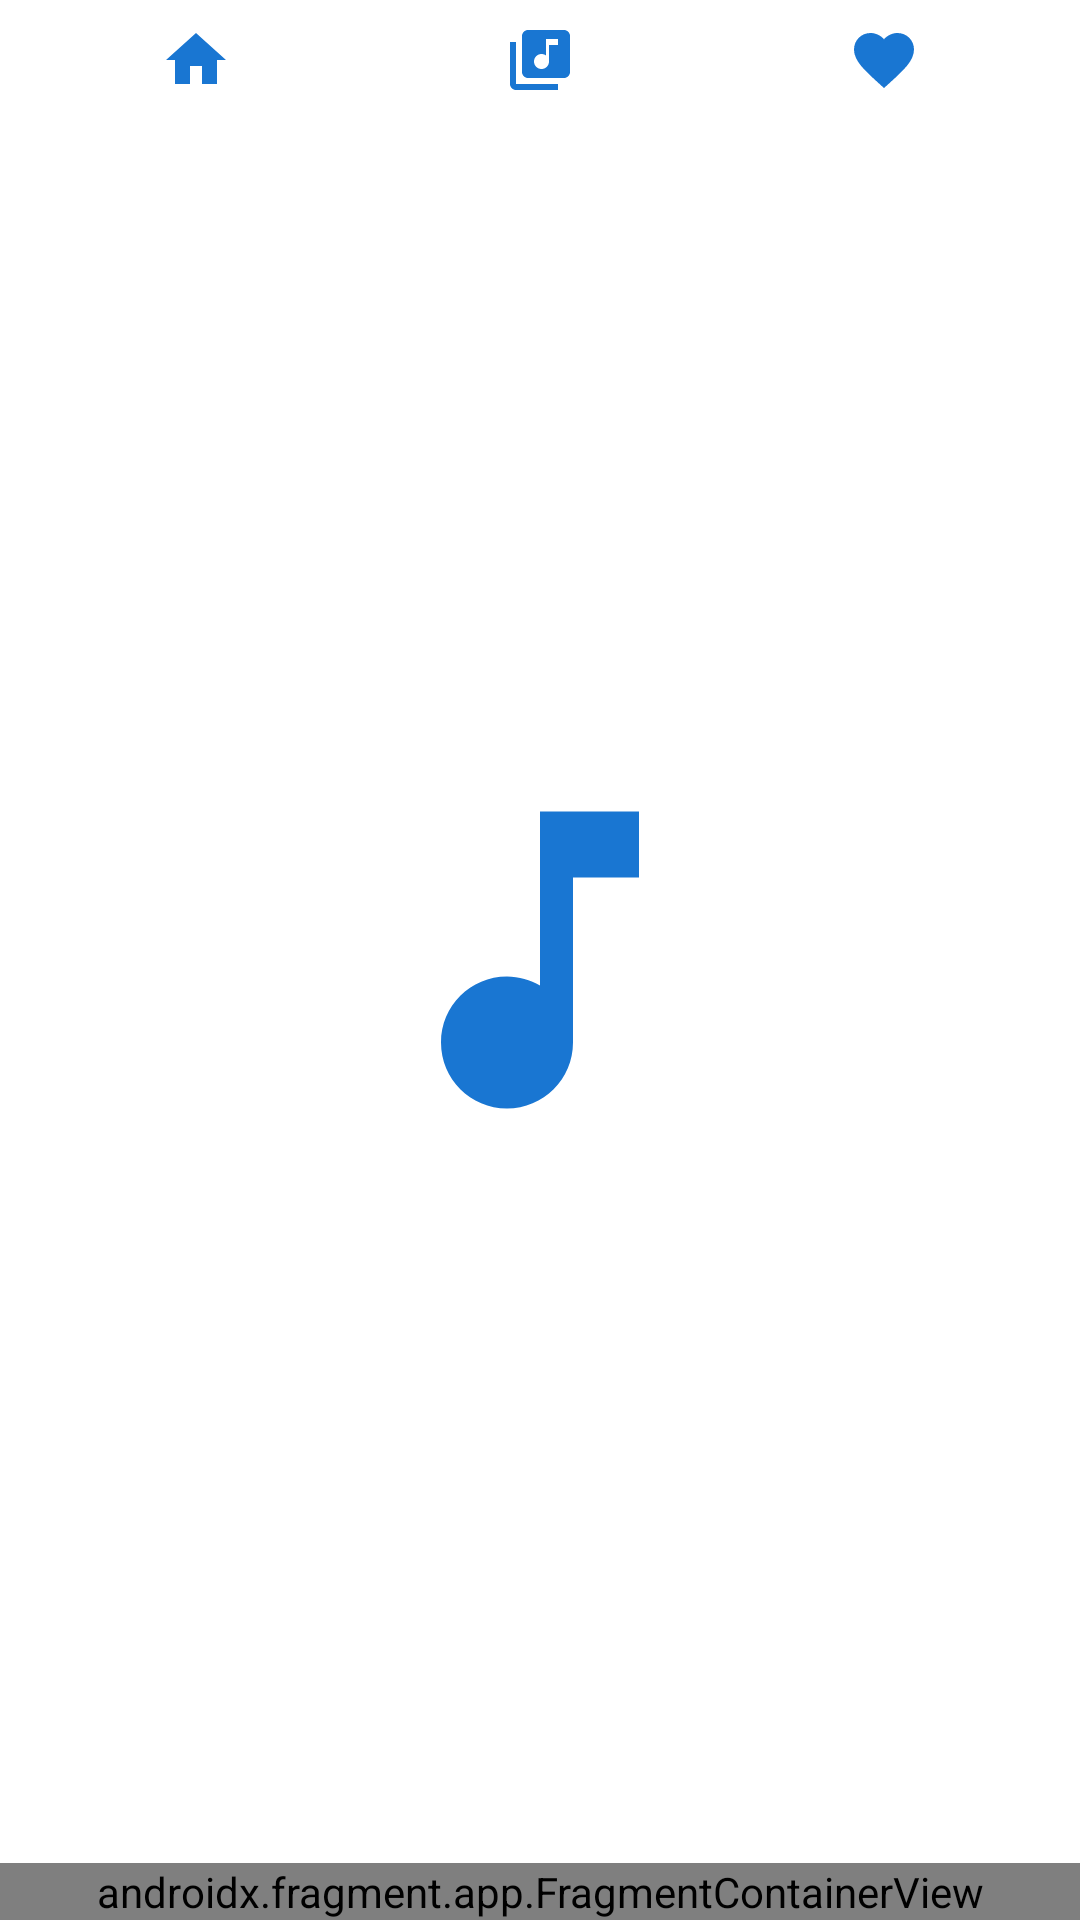

Icons on this 1080px×1920px Android screen, each with its box as box=[x1, y1, x2, y2]:
favourites: box=[854, 33, 914, 88]
playlist: box=[510, 30, 570, 90]
